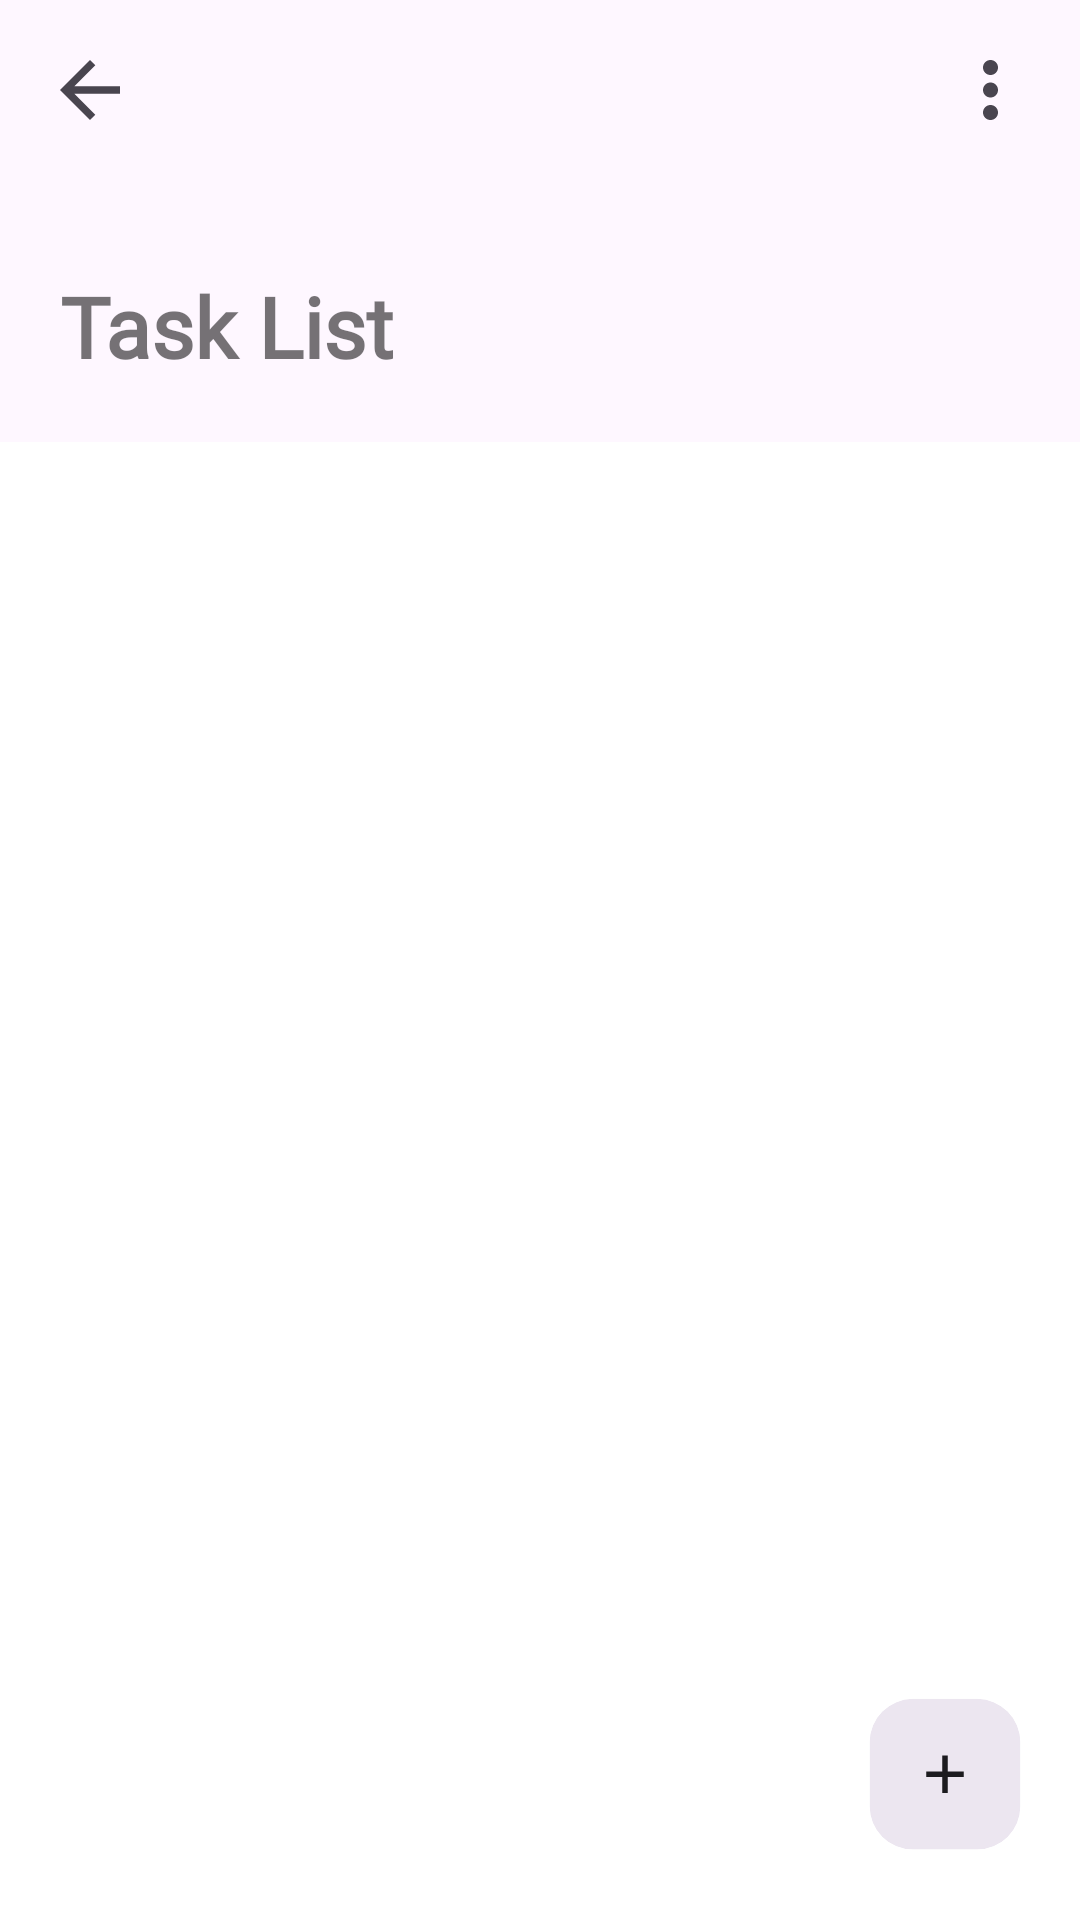

Where icons sit on this 1080w x 1920h app screen, as (x1=x1, y1=y1, x2=x2, y2=y2):
add: (x1=870, y1=1699, x2=1020, y2=1849)
back: (x1=60, y1=60, x2=120, y2=120)
